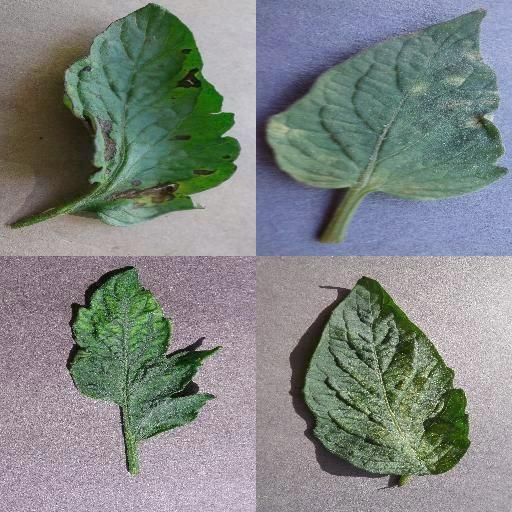Early Blight: (61, 2, 242, 228)
Leaf Mold: (268, 8, 508, 202)
Mosaic Virus: (67, 268, 225, 440)
Spider Mites: (303, 274, 471, 476)
